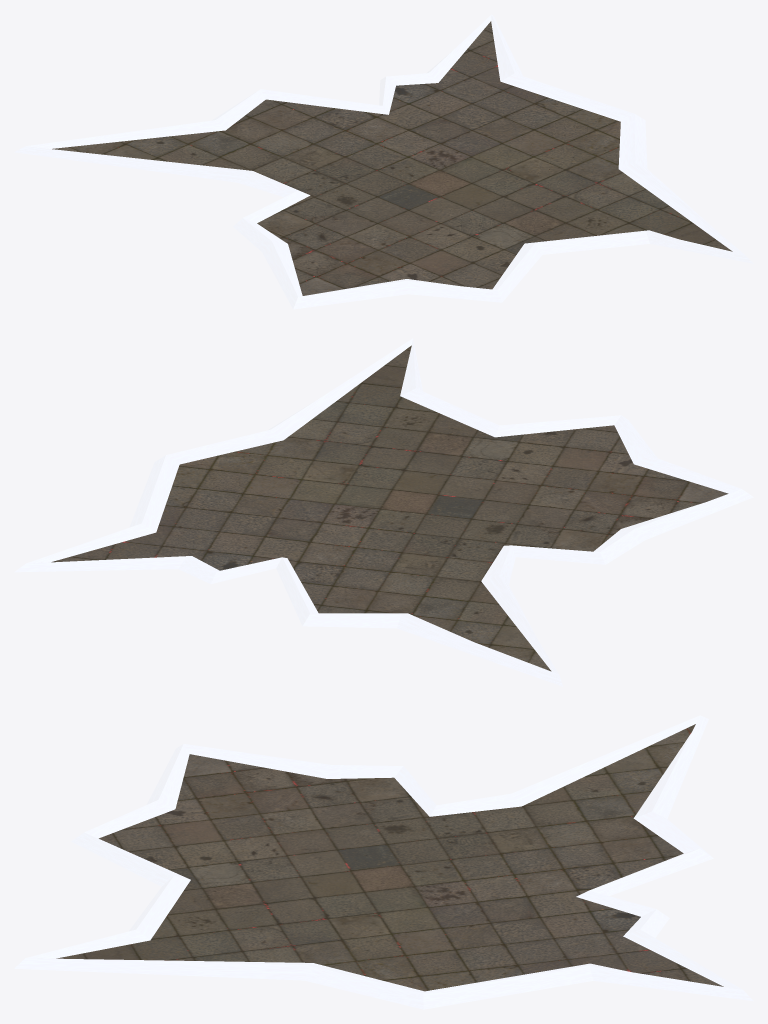
File: GlitchFloor_Art.glb
3 views of the same model, one above another, from view 1: azimuth 30°, elevation 25°; view 2: azimuth 150°, elevation 25°; view 3: azimuth 270°, elevation 25° (orthographic). The views are drawn at different scales.
Visible parts, largest first — view 1: GlitchFloor_Art; view 2: GlitchFloor_Art; view 3: GlitchFloor_Art.
Part boxes in pixels (x1=…): GlitchFloor_Art: x1=14, y1=14, x2=753, y2=309; GlitchFloor_Art: x1=14, y1=338, x2=753, y2=686; GlitchFloor_Art: x1=14, y1=715, x2=753, y2=1009.
Bounding box in the file's own units: 8.31 × 0.1406 × 9.01.
Materials: 2 (2 with a texture image).
